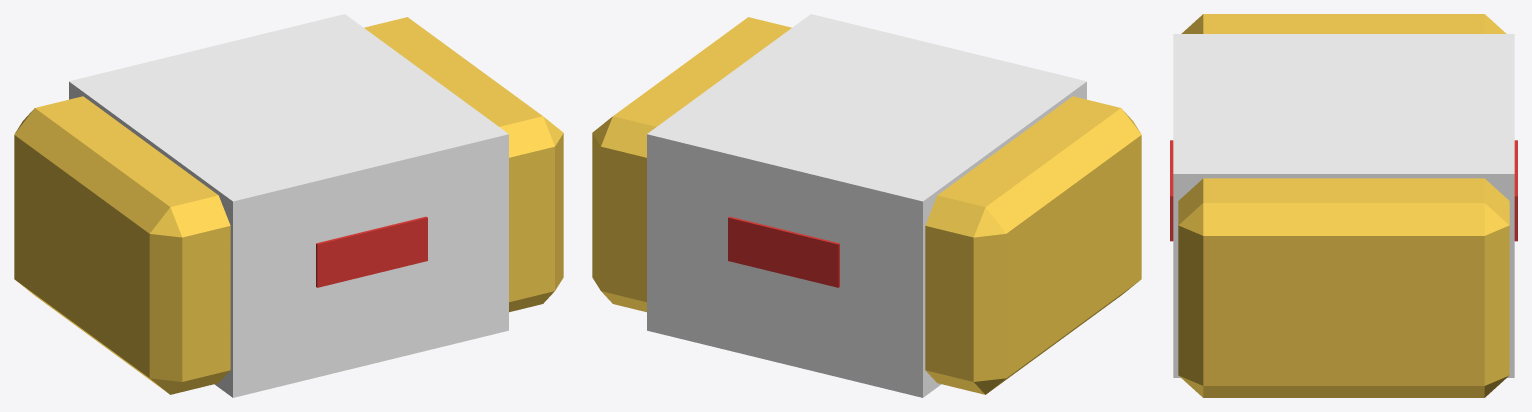
Rendered from Tereyag_Model.fbx.
The picture shows the model from 3 angles, left to right: view 1: azimuth 30°, elevation 25°; view 2: azimuth 150°, elevation 25°; view 3: azimuth 270°, elevation 25°; orthographic projection. The views are drawn at different scales.
Parts seen in each view (by area): view 1: Tereyag_Model; view 2: Tereyag_Model; view 3: Tereyag_Model.
Boxes of the visible parts, bbox=[...] form: Tereyag_Model: bbox=[14, 14, 563, 397]; Tereyag_Model: bbox=[592, 14, 1141, 397]; Tereyag_Model: bbox=[1170, 14, 1517, 397].
Bounding box in the file's own units: 30 × 13.6 × 21.
